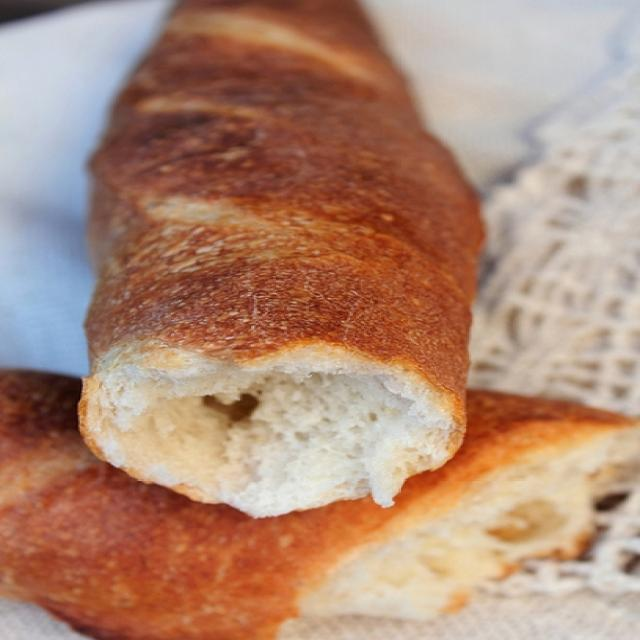面包点心: (9, 13, 622, 632)
